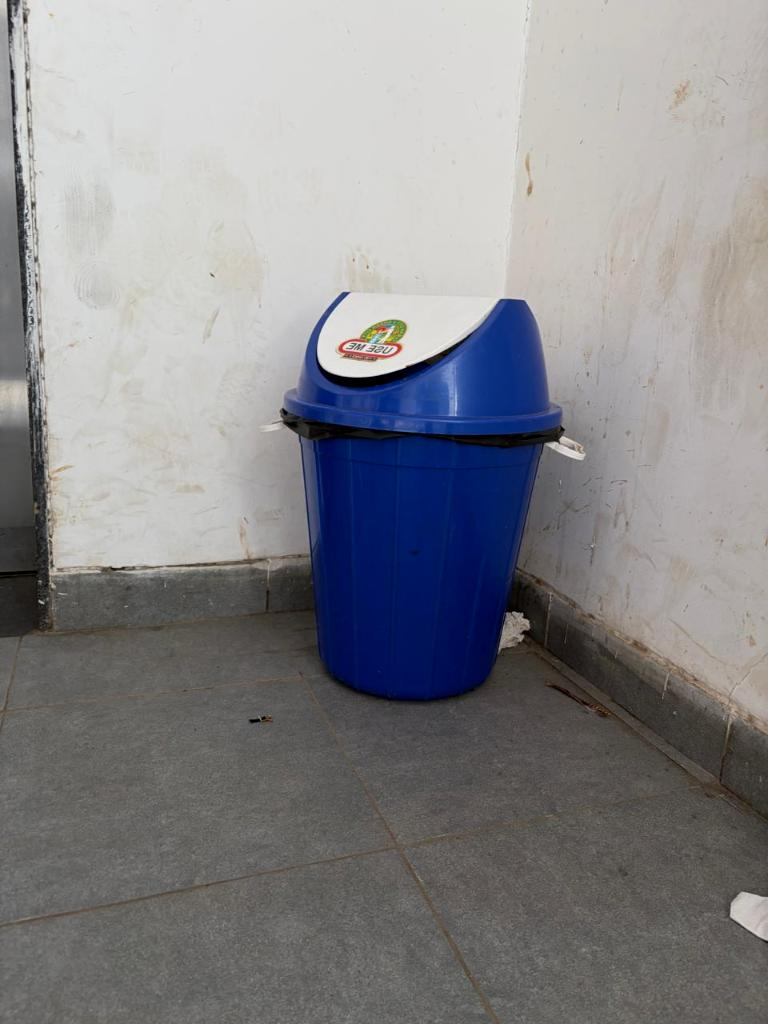dustbin: (260, 256, 570, 742)
